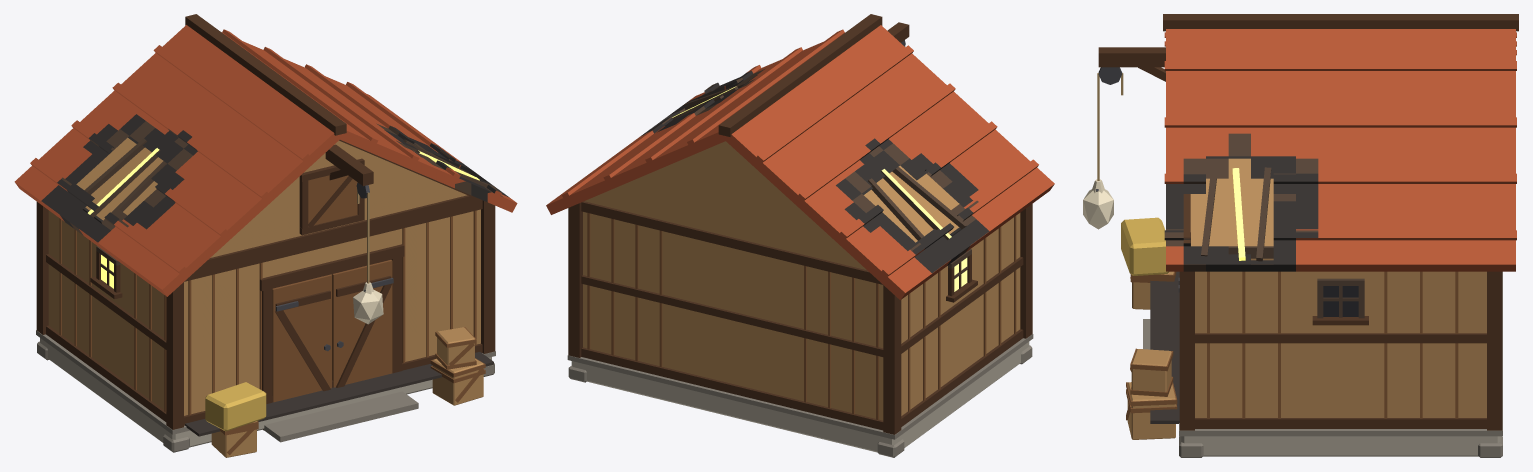
Rendered from Lagerhaus_Beschaedigt.fbx.
The picture shows the model from 3 angles, left to right: view 1: azimuth 30°, elevation 25°; view 2: azimuth 150°, elevation 25°; view 3: azimuth 270°, elevation 25°; orthographic projection. The views are drawn at different scales.
Visible parts, largest first — view 1: Lagerhaus_Beschaedigt; view 2: Lagerhaus_Beschaedigt; view 3: Lagerhaus_Beschaedigt.
Part boxes in pixels (x1,y1,x2,y2): Lagerhaus_Beschaedigt: (14, 14, 517, 457); Lagerhaus_Beschaedigt: (546, 14, 1054, 457); Lagerhaus_Beschaedigt: (1083, 14, 1518, 457).
Bounding box in the file's own units: 8.22 × 6.5 × 7.37.
